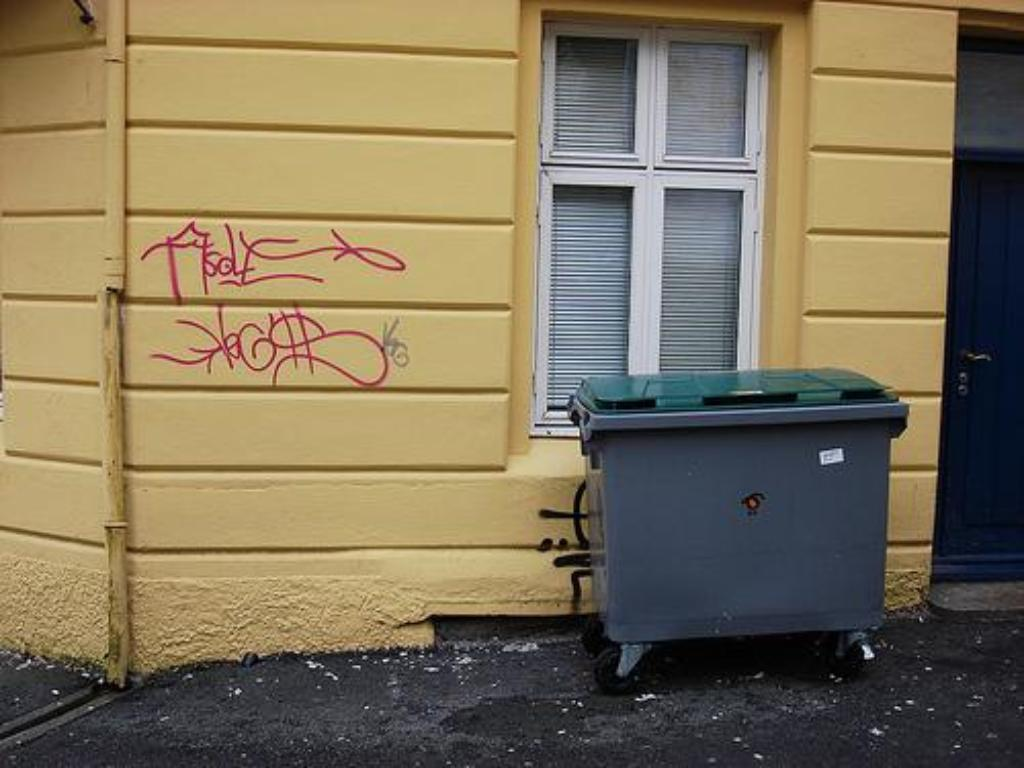dustbin: (565, 361, 920, 680)
